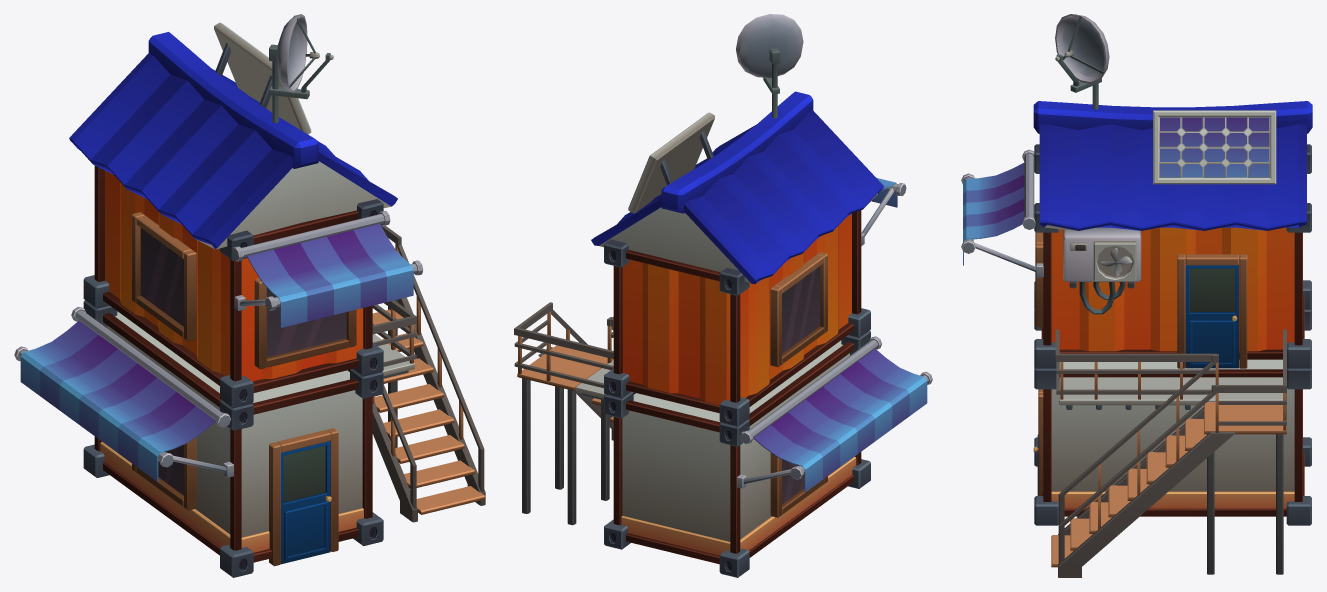
The model's file is sp_prebuild_house_04.fbx.
3 renders of one model, left to right at view 1: azimuth 30°, elevation 25°; view 2: azimuth 150°, elevation 25°; view 3: azimuth 270°, elevation 25°, orthographic. The views are drawn at different scales.
Parts seen in each view (by area): view 1: finb_house_04; view 2: finb_house_04; view 3: finb_house_04.
Part boxes in pixels (x1,y1,x2,y2): finb_house_04: [14, 14, 485, 577]; finb_house_04: [514, 14, 932, 577]; finb_house_04: [961, 14, 1312, 577].
Bounding box in the file's own units: 646 × 957 × 631.
